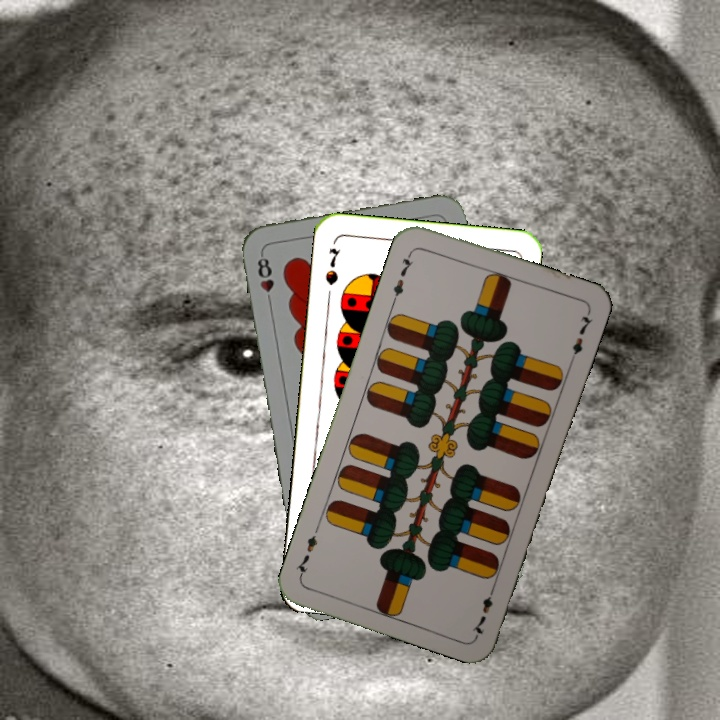E7: (468, 581, 498, 639), (388, 247, 416, 304)
H8: (253, 249, 277, 308)
S7: (321, 243, 343, 288)
